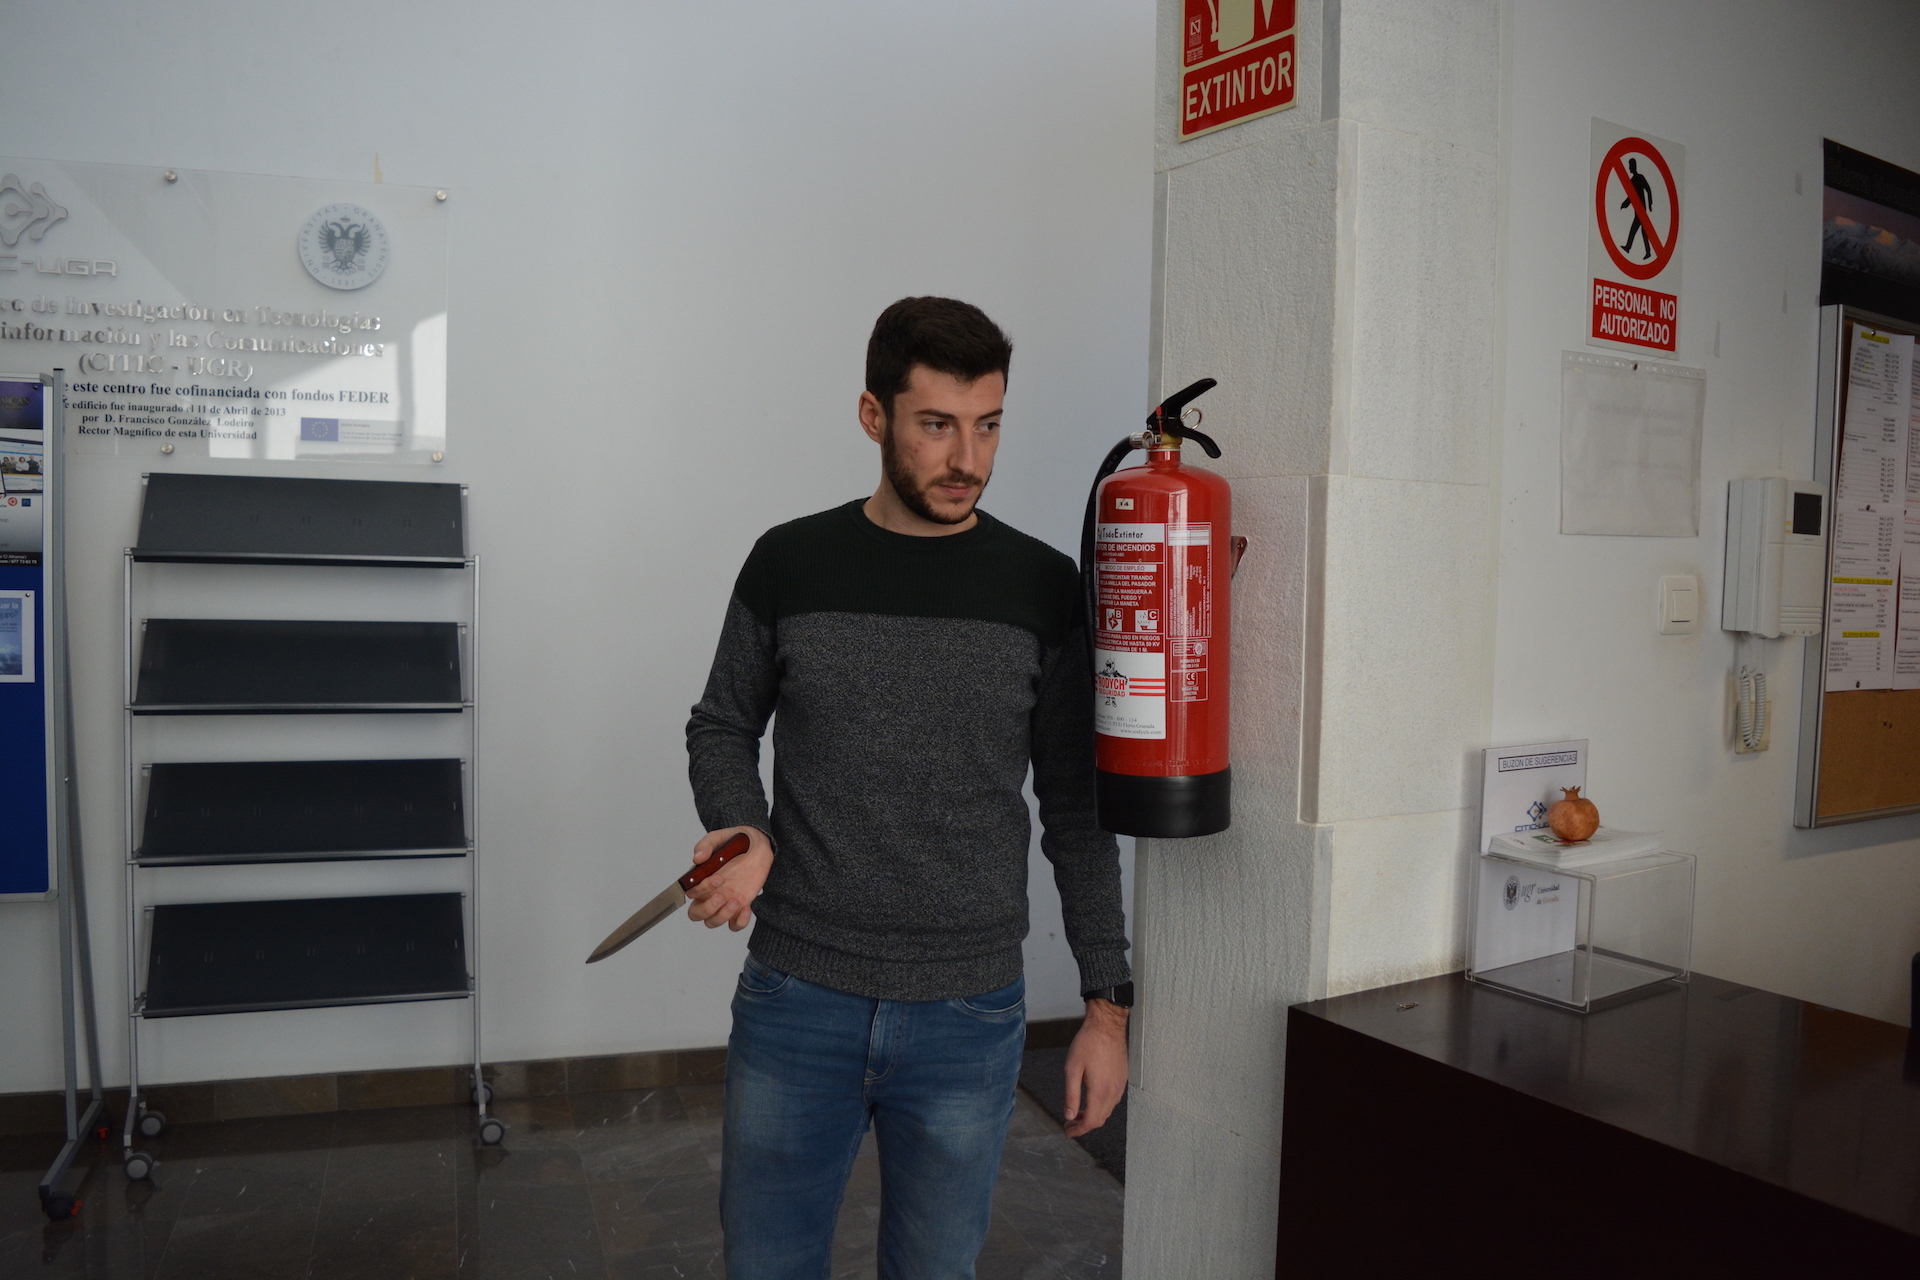knife: (574, 829, 756, 971)
